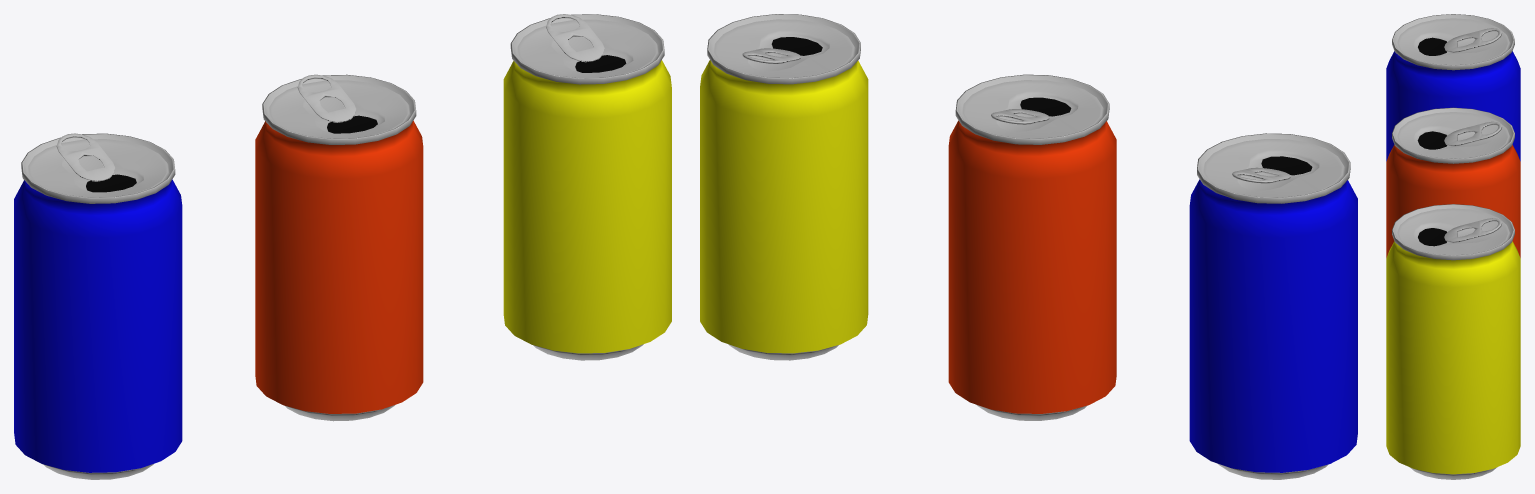
The model's file is akikan.fbx.
The picture shows the model from 3 angles, left to right: view 1: azimuth 30°, elevation 25°; view 2: azimuth 150°, elevation 25°; view 3: azimuth 270°, elevation 25°; orthographic projection. The views are drawn at different scales.
Parts seen in each view (by area): view 1: pCylinder6, pCylinder7, pCylinder5; view 2: pCylinder6, pCylinder7, pCylinder5; view 3: pCylinder6, pCylinder5, pCylinder7.
Part boxes in pixels (x1,y1,x2,y2): pCylinder6: (503,14,671,360); pCylinder7: (14,133,182,479); pCylinder5: (255,74,423,421); pCylinder6: (700,14,868,360); pCylinder7: (1189,133,1357,479); pCylinder5: (948,74,1116,420); pCylinder6: (1386,204,1520,479); pCylinder5: (1386,107,1520,257); pCylinder7: (1386,14,1520,161).
Size of the model in its own units: 2.04 by 0.9135 by 0.4692.
